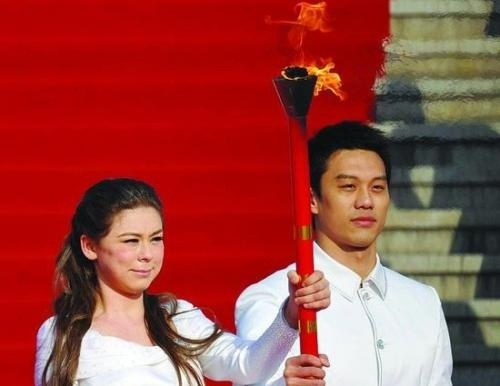fire: (302, 55, 344, 95), (295, 0, 331, 31)
